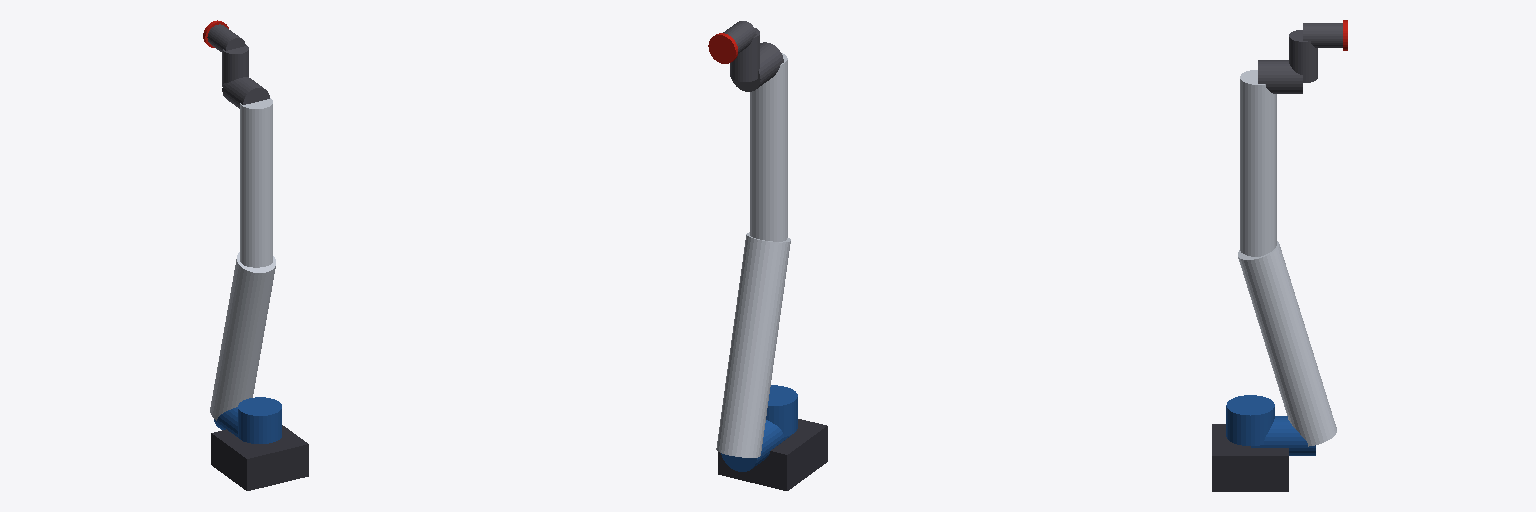
The robot description file, URDF, robot "test_robot":
<?xml version="1.0" encoding="UTF-8" ?>
<!-- Simple 6-DOF (6R) anthropomorphic arm, UR5-like dimensions.
     Self-contained: primitive geometry only, no mesh files required.
     Chain: base_link -> link1(Z) -> link2(Y) -> link3(Y)
            -> link4(Y) -> link5(Z) -> link6(Y) -> tool0 (fixed)
     Joint origins follow the UR convention: shoulder offset in +Y,
     upper-arm/forearm tilts in the XZ plane, wrist offsets in Y/Z. -->
<robot name="test_robot">

  <material name="base_gray">
    <color rgba="0.25 0.25 0.28 1"/>
  </material>
  <material name="joint_blue">
    <color rgba="0.18 0.38 0.62 1"/>
  </material>
  <material name="arm_light">
    <color rgba="0.80 0.82 0.86 1"/>
  </material>
  <material name="wrist_dark">
    <color rgba="0.35 0.35 0.38 1"/>
  </material>
  <material name="tool_red">
    <color rgba="0.78 0.16 0.12 1"/>
  </material>

  <!-- ===================== BASE ===================== -->
  <link name="base_link">
    <inertial>
      <origin xyz="0 0 0.04" rpy="0 0 0"/>
      <mass value="5.0"/>
      <inertia ixx="0.013333" ixy="0" ixz="0"
               iyy="0.013333" iyz="0"
               izz="0.021333"/>
    </inertial>
    <visual>
      <origin xyz="0 0 0.04" rpy="0 0 0"/>
      <geometry>
        <box size="0.16 0.16 0.08"/>
      </geometry>
      <material name="base_gray"/>
    </visual>
    <collision>
      <origin xyz="0 0 0.04" rpy="0 0 0"/>
      <geometry>
        <box size="0.16 0.16 0.08"/>
      </geometry>
    </collision>
  </link>

  <!-- ============== JOINT 1 : shoulder pan (Z) ============== -->
  <joint name="joint1" type="revolute">
    <parent link="base_link"/>
    <child link="link1"/>
    <origin xyz="0 0 0.089159" rpy="0 0 0"/>
    <axis xyz="0 0 1"/>
    <limit lower="-3.141593" upper="3.141593" effort="150" velocity="3.15"/>
    <dynamics damping="0.5" friction="0.2"/>
  </joint>

  <link name="link1">
    <inertial>
      <origin xyz="0 0.067925 0" rpy="-1.570796 0 0"/>
      <mass value="4.0"/>
      <inertia ixx="0.008652" ixy="0" ixz="0"
               iyy="0.008652" iyz="0"
               izz="0.005000"/>
    </inertial>
    <visual>
      <origin xyz="0 0 0.035" rpy="0 0 0"/>
      <geometry>
        <cylinder radius="0.05" length="0.07"/>
      </geometry>
      <material name="joint_blue"/>
    </visual>
    <visual>
      <origin xyz="0 0.067925 0" rpy="-1.570796 0 0"/>
      <geometry>
        <cylinder radius="0.042" length="0.13585"/>
      </geometry>
      <material name="joint_blue"/>
    </visual>
    <collision>
      <origin xyz="0 0.067925 0" rpy="-1.570796 0 0"/>
      <geometry>
        <cylinder radius="0.042" length="0.13585"/>
      </geometry>
    </collision>
  </link>

  <!-- ============== JOINT 2 : shoulder lift (Y) ============== -->
  <joint name="joint2" type="revolute">
    <parent link="link1"/>
    <child link="link2"/>
    <origin xyz="0 0.13585 0" rpy="0 0 0"/>
    <axis xyz="0 1 0"/>
    <limit lower="-3.141593" upper="3.141593" effort="150" velocity="3.15"/>
    <dynamics damping="0.5" friction="0.2"/>
  </joint>

  <link name="link2">
    <inertial>
      <origin xyz="0 -0.05985 0.2125" rpy="0.274485 0 0"/>
      <mass value="8.0"/>
      <inertia ixx="0.134022" ixy="0" ixz="0"
               iyy="0.134022" iyz="0"
               izz="0.008100"/>
    </inertial>
    <visual>
      <origin xyz="0 -0.05985 0.2125" rpy="0.274485 0 0"/>
      <geometry>
        <cylinder radius="0.045" length="0.441537"/>
      </geometry>
      <material name="arm_light"/>
    </visual>
    <collision>
      <origin xyz="0 -0.05985 0.2125" rpy="0.274485 0 0"/>
      <geometry>
        <cylinder radius="0.045" length="0.441537"/>
      </geometry>
    </collision>
  </link>

  <!-- ============== JOINT 3 : elbow (Y) ============== -->
  <joint name="joint3" type="revolute">
    <parent link="link2"/>
    <child link="link3"/>
    <origin xyz="0 -0.1197 0.425" rpy="0 0 0"/>
    <axis xyz="0 1 0"/>
    <limit lower="-3.141593" upper="3.141593" effort="150" velocity="3.15"/>
    <dynamics damping="0.5" friction="0.2"/>
  </joint>

  <link name="link3">
    <inertial>
      <origin xyz="0 0 0.196125" rpy="0 0 0"/>
      <mass value="6.0"/>
      <inertia ixx="0.079096" ixy="0" ixz="0"
               iyy="0.079096" iyz="0"
               izz="0.004332"/>
    </inertial>
    <visual>
      <origin xyz="0 0 0.196125" rpy="0 0 0"/>
      <geometry>
        <cylinder radius="0.038" length="0.39225"/>
      </geometry>
      <material name="arm_light"/>
    </visual>
    <collision>
      <origin xyz="0 0 0.196125" rpy="0 0 0"/>
      <geometry>
        <cylinder radius="0.038" length="0.39225"/>
      </geometry>
    </collision>
  </link>

  <!-- ============== JOINT 4 : wrist 1 (Y) ============== -->
  <joint name="joint4" type="revolute">
    <parent link="link3"/>
    <child link="link4"/>
    <origin xyz="0 0 0.39225" rpy="0 0 0"/>
    <axis xyz="0 1 0"/>
    <limit lower="-3.141593" upper="3.141593" effort="28" velocity="3.2"/>
    <dynamics damping="0.2" friction="0.1"/>
  </joint>

  <link name="link4">
    <inertial>
      <origin xyz="0 0.0465 0" rpy="-1.570796 0 0"/>
      <mass value="2.0"/>
      <inertia ixx="0.002054" ixy="0" ixz="0"
               iyy="0.002054" iyz="0"
               izz="0.001225"/>
    </inertial>
    <visual>
      <origin xyz="0 0.0465 0" rpy="-1.570796 0 0"/>
      <geometry>
        <cylinder radius="0.035" length="0.093"/>
      </geometry>
      <material name="wrist_dark"/>
    </visual>
    <collision>
      <origin xyz="0 0.0465 0" rpy="-1.570796 0 0"/>
      <geometry>
        <cylinder radius="0.035" length="0.093"/>
      </geometry>
    </collision>
  </link>

  <!-- ============== JOINT 5 : wrist 2 (Z) ============== -->
  <joint name="joint5" type="revolute">
    <parent link="link4"/>
    <child link="link5"/>
    <origin xyz="0 0.093 0" rpy="0 0 0"/>
    <axis xyz="0 0 1"/>
    <limit lower="-3.141593" upper="3.141593" effort="28" velocity="3.2"/>
    <dynamics damping="0.2" friction="0.1"/>
  </joint>

  <link name="link5">
    <inertial>
      <origin xyz="0 0 0.047325" rpy="0 0 0"/>
      <mass value="2.0"/>
      <inertia ixx="0.001943" ixy="0" ixz="0"
               iyy="0.001943" iyz="0"
               izz="0.000900"/>
    </inertial>
    <visual>
      <origin xyz="0 0 0.047325" rpy="0 0 0"/>
      <geometry>
        <cylinder radius="0.030" length="0.09465"/>
      </geometry>
      <material name="wrist_dark"/>
    </visual>
    <collision>
      <origin xyz="0 0 0.047325" rpy="0 0 0"/>
      <geometry>
        <cylinder radius="0.030" length="0.09465"/>
      </geometry>
    </collision>
  </link>

  <!-- ============== JOINT 6 : wrist 3 (Y) ============== -->
  <joint name="joint6" type="revolute">
    <parent link="link5"/>
    <child link="link6"/>
    <origin xyz="0 0 0.09465" rpy="0 0 0"/>
    <axis xyz="0 1 0"/>
    <limit lower="-3.141593" upper="3.141593" effort="28" velocity="3.2"/>
    <dynamics damping="0.2" friction="0.1"/>
  </joint>

  <link name="link6">
    <inertial>
      <origin xyz="0 0.04115 0" rpy="-1.570796 0 0"/>
      <mass value="1.0"/>
      <inertia ixx="0.000733" ixy="0" ixz="0"
               iyy="0.000733" iyz="0"
               izz="0.000338"/>
    </inertial>
    <visual>
      <origin xyz="0 0.04115 0" rpy="-1.570796 0 0"/>
      <geometry>
        <cylinder radius="0.026" length="0.0823"/>
      </geometry>
      <material name="wrist_dark"/>
    </visual>
    <collision>
      <origin xyz="0 0.04115 0" rpy="-1.570796 0 0"/>
      <geometry>
        <cylinder radius="0.026" length="0.0823"/>
      </geometry>
    </collision>
  </link>

  <!-- ============== TOOL FLANGE (fixed) ============== -->
  <!-- tool0 +Z points outward along the flange approach direction. -->
  <joint name="tool0_joint" type="fixed">
    <parent link="link6"/>
    <child link="tool0"/>
    <origin xyz="0 0.0823 0" rpy="-1.570796 0 0"/>
  </joint>

  <link name="tool0">
    <inertial>
      <origin xyz="0 0 0.005" rpy="0 0 0"/>
      <mass value="0.01"/>
      <inertia ixx="1e-6" ixy="0" ixz="0"
               iyy="1e-6" iyz="0"
               izz="1e-6"/>
    </inertial>
    <visual>
      <origin xyz="0 0 0.005" rpy="0 0 0"/>
      <geometry>
        <cylinder radius="0.0315" length="0.01"/>
      </geometry>
      <material name="tool_red"/>
    </visual>
    <collision>
      <origin xyz="0 0 0.005" rpy="0 0 0"/>
      <geometry>
        <cylinder radius="0.0315" length="0.01"/>
      </geometry>
    </collision>
  </link>

</robot>

--- What the picture shows (computed from the rendered views, not written in the file) ---
The picture shows the robot from 3 angles, left to right: view 1: azimuth 30°, elevation 25°; view 2: azimuth 150°, elevation 25°; view 3: azimuth 270°, elevation 25°; orthographic projection.
Robot: test_robot — 8 links, 7 joints (6 revolute, 1 fixed); root link base_link; default pose: all joints at 0.
Links seen in each view (by area): view 1: link2, link3, base_link, link1, link4, link5, link6; view 2: link2, link3, base_link, link1, link5, link4, tool0, link6; view 3: link2, link3, base_link, link1, link4, link5, link6.
Boxes of the visible links, x1=… form: link2: x1=210, y1=252, x2=275, y2=420; link3: x1=240, y1=98, x2=272, y2=267; base_link: x1=211, y1=425, x2=308, y2=490; link1: x1=214, y1=397, x2=281, y2=443; link4: x1=222, y1=77, x2=269, y2=108; link5: x1=222, y1=45, x2=248, y2=86; link6: x1=207, y1=24, x2=245, y2=51; link2: x1=716, y1=232, x2=790, y2=457; link3: x1=750, y1=53, x2=787, y2=241; base_link: x1=718, y1=419, x2=827, y2=490; link1: x1=721, y1=385, x2=797, y2=471; link5: x1=730, y1=28, x2=759, y2=81; link4: x1=731, y1=42, x2=783, y2=91; tool0: x1=708, y1=33, x2=737, y2=63; link6: x1=723, y1=21, x2=756, y2=53; link2: x1=1238, y1=241, x2=1336, y2=446; link3: x1=1240, y1=70, x2=1276, y2=256; base_link: x1=1212, y1=424, x2=1288, y2=491; link1: x1=1226, y1=395, x2=1315, y2=455; link4: x1=1258, y1=60, x2=1302, y2=93; link5: x1=1289, y1=30, x2=1317, y2=82; link6: x1=1303, y1=23, x2=1342, y2=47.
Size in the robot's own frame: 0.16 by 0.2815 by 1.03 metres.
Geometry: primitives only (box / cylinder / sphere), no mesh files.
